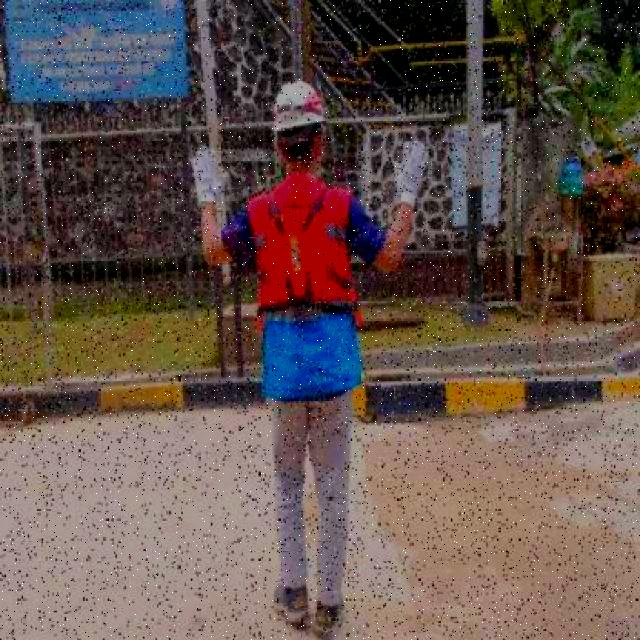Boots: (270, 572, 312, 626), (314, 593, 348, 638)
Gloves: (392, 132, 432, 212), (189, 144, 229, 208)
Helmet: (272, 76, 326, 138)
Mask: (251, 186, 364, 389)
